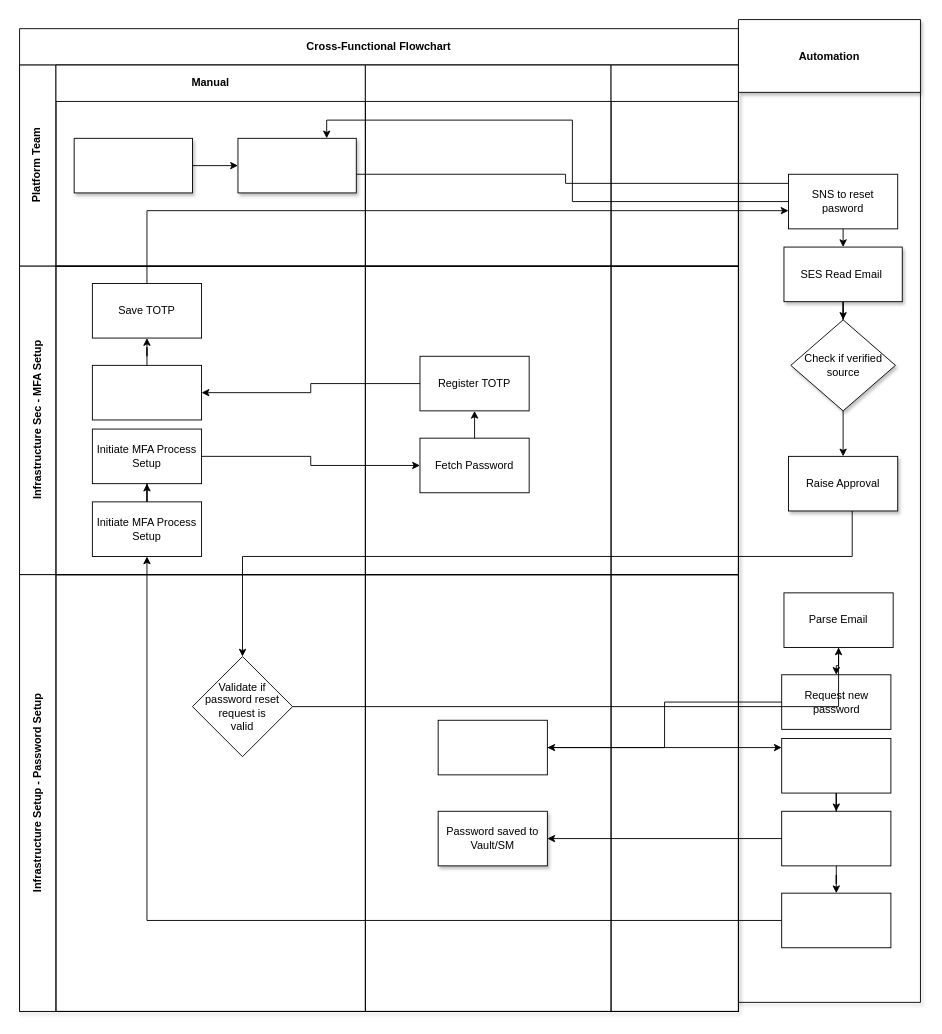
Some shapes in this 942 by 1034 pixel diagram are drawn without their labels. Each missing label, with the centre of its shape:
Create Account using TF: (134,166)
Generate Password: (492,747)
Initiate Reset Password: (297,166)
Notify Password Owner: (836,920)
Save Password to Vault with Appropriate Permissions: (836,838)
Set Root Password: (836,765)
Setup MFA: (146,392)
Vault/Secrets Manager: (487,165)
